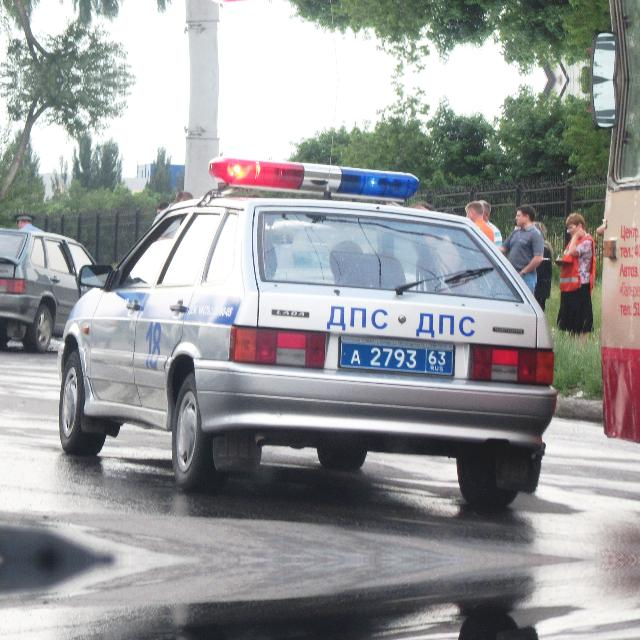police: (332, 332, 460, 386)
